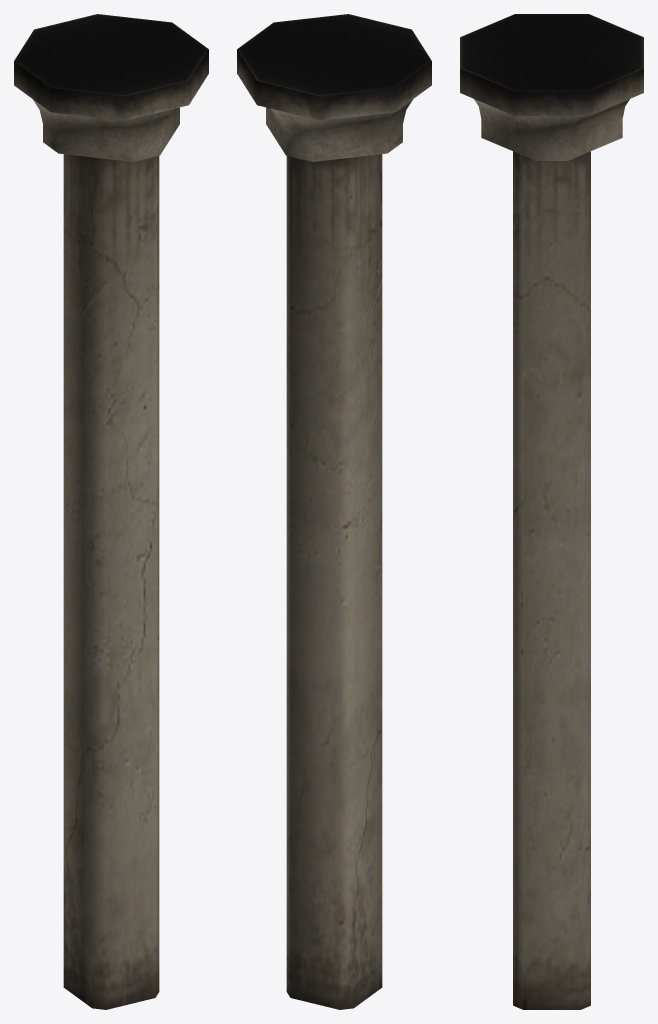
File: welder_01a.DAE
3 renders of one model, left to right at view 1: azimuth 30°, elevation 25°; view 2: azimuth 150°, elevation 25°; view 3: azimuth 270°, elevation 25°, orthographic.
Parts seen in each view (by area): view 1: mansionbase_welder003; view 2: mansionbase_welder003; view 3: mansionbase_welder003.
Boxes of the visible parts, x1,y1,x2,y2 form: mansionbase_welder003: (14, 14, 208, 1009); mansionbase_welder003: (237, 14, 431, 1009); mansionbase_welder003: (460, 14, 643, 1009).
Bounding box in the file's own units: 0.7087 × 4 × 0.7087.
